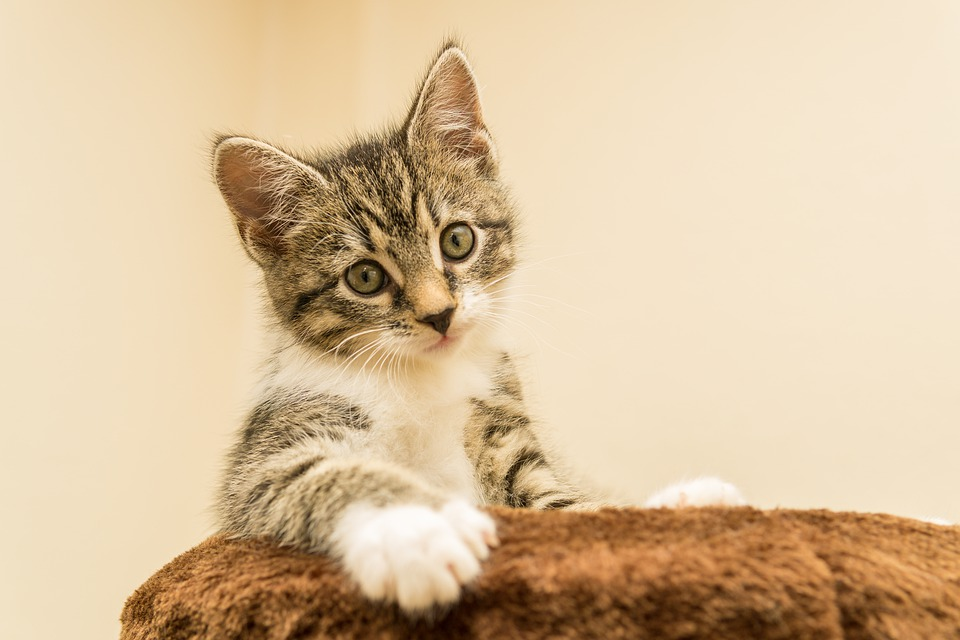cat-face: (199, 30, 530, 364)
